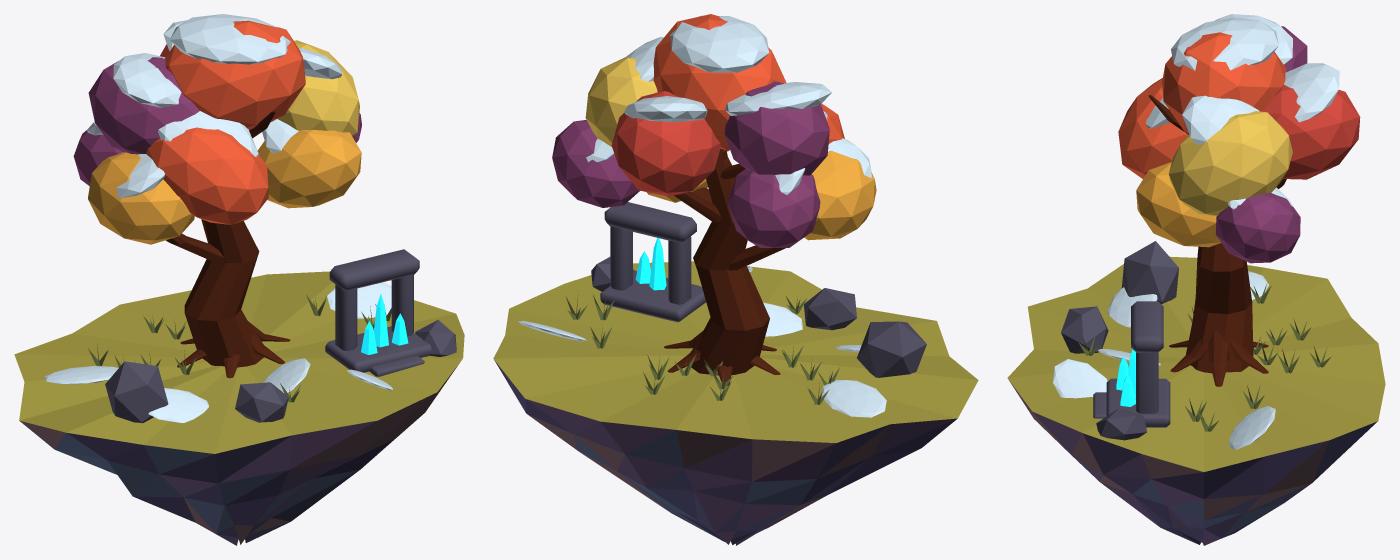
Rendered from gardien.glb.
3 views of the same model, side by side, from view 1: azimuth 30°, elevation 25°; view 2: azimuth 150°, elevation 25°; view 3: azimuth 270°, elevation 25° (orthographic). The views are drawn at different scales.
Visible parts, largest first — view 1: Tree, Island_Ground, Island_Rock, Snow, Tree_Trunk, Rock_0, Shrine, Shrine_Lintel, Shrine_Base, Rock_1, Rock_2, Shrine_Step; view 2: Island_Ground, Tree, Island_Rock, Snow, Tree_Trunk, Rock_0, Shrine, Shrine_Base, Shrine_Lintel, Rock_1; view 3: Island_Ground, Tree, Island_Rock, Snow, Tree_Trunk, Rock_0, Rock_1, Shrine_Lintel, Shrine, Shrine_Base, Rock_2.
Boxes of the visible parts, x1=… form: Tree: x1=73, y1=20, x2=361, y2=378; Island_Ground: x1=14, y1=271, x2=464, y2=453; Island_Rock: x1=19, y1=360, x2=461, y2=545; Snow: x1=45, y1=14, x2=392, y2=422; Tree_Trunk: x1=184, y1=219, x2=263, y2=367; Rock_0: x1=105, y1=361, x2=168, y2=423; Shrine: x1=335, y1=274, x2=413, y2=350; Shrine_Lintel: x1=329, y1=249, x2=419, y2=291; Shrine_Base: x1=325, y1=326, x2=431, y2=372; Rock_1: x1=235, y1=382, x2=288, y2=422; Rock_2: x1=415, y1=319, x2=456, y2=356; Shrine_Step: x1=369, y1=355, x2=424, y2=376; Island_Ground: x1=493, y1=261, x2=978, y2=442; Tree: x1=552, y1=14, x2=876, y2=385; Island_Rock: x1=494, y1=360, x2=957, y2=545; Snow: x1=518, y1=15, x2=886, y2=417; Tree_Trunk: x1=691, y1=148, x2=769, y2=375; Rock_0: x1=857, y1=321, x2=926, y2=377; Shrine: x1=610, y1=226, x2=691, y2=304; Shrine_Base: x1=600, y1=270, x2=705, y2=322; Shrine_Lintel: x1=604, y1=202, x2=696, y2=243; Rock_1: x1=804, y1=288, x2=856, y2=330; Island_Ground: x1=1007, y1=256, x2=1385, y2=471; Tree: x1=1118, y1=26, x2=1360, y2=386; Island_Rock: x1=1009, y1=380, x2=1377, y2=545; Snow: x1=1053, y1=14, x2=1339, y2=449; Tree_Trunk: x1=1186, y1=243, x2=1253, y2=373; Rock_0: x1=1121, y1=241, x2=1178, y2=304; Rock_1: x1=1061, y1=306, x2=1108, y2=353; Shrine_Lintel: x1=1131, y1=301, x2=1163, y2=352; Shrine: x1=1136, y1=352, x2=1158, y2=413; Shrine_Base: x1=1106, y1=378, x2=1170, y2=427; Rock_2: x1=1096, y1=408, x2=1146, y2=440.
Bounding box in the file's own units: 8.51 × 9.56 × 6.35.
